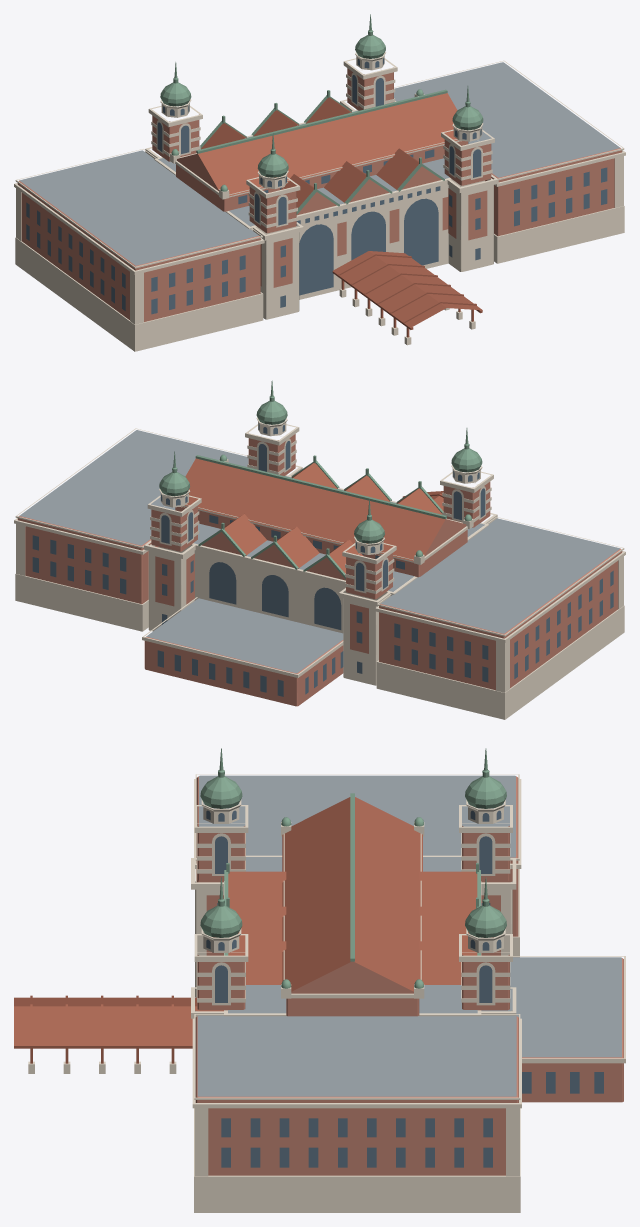
The model's file is nyc-ellis-island.glb.
3 views of the same model, one above another, from view 1: azimuth 30°, elevation 25°; view 2: azimuth 150°, elevation 25°; view 3: azimuth 270°, elevation 25° (orthographic). The views are drawn at different scales.
Parts seen in each view (by area): view 1: Ellis Island Main Building; view 2: Ellis Island Main Building; view 3: Ellis Island Main Building.
Part boxes in pixels (left/top/right/bottom): Ellis Island Main Building: left=14, top=14, right=625, bottom=351; Ellis Island Main Building: left=14, top=380, right=625, bottom=719; Ellis Island Main Building: left=14, top=748, right=625, bottom=1212.
Bounding box in the file's own units: 119 × 40.6 × 94.4.
